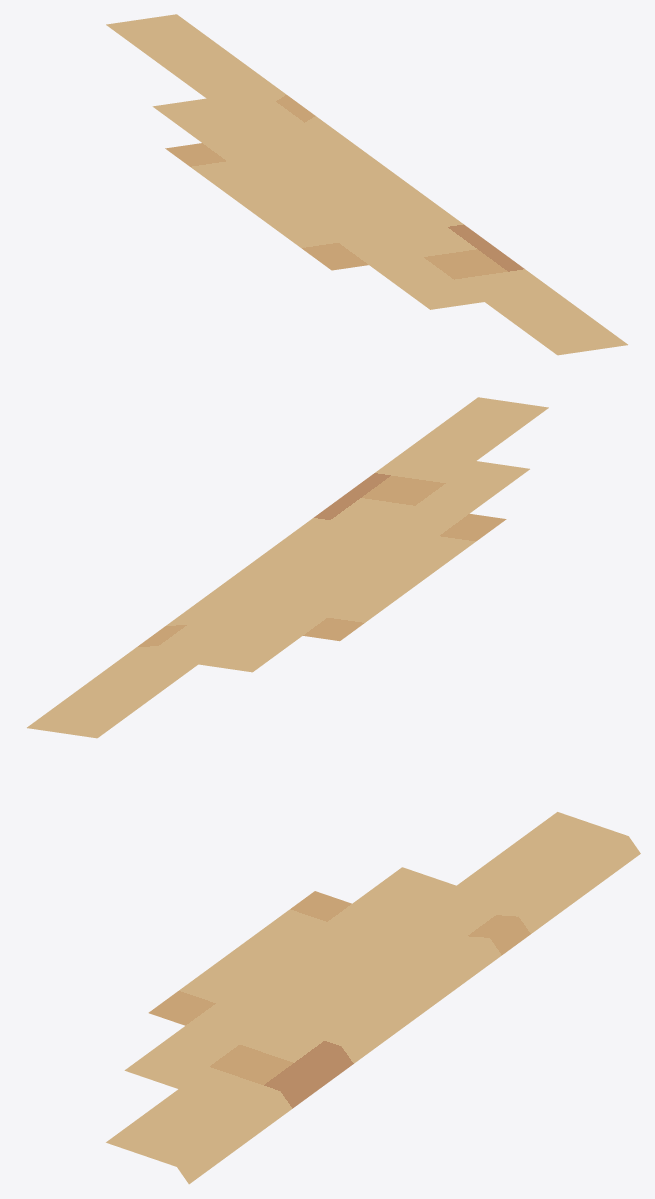
3 renders of one model, top to bottom at view 1: azimuth 30°, elevation 25°; view 2: azimuth 150°, elevation 25°; view 3: azimuth 330°, elevation 25°, orthographic.
Size of the model in its own units: 0.2236 by 0.0373 by 1.
Materials: 1 (1 with a texture image).
